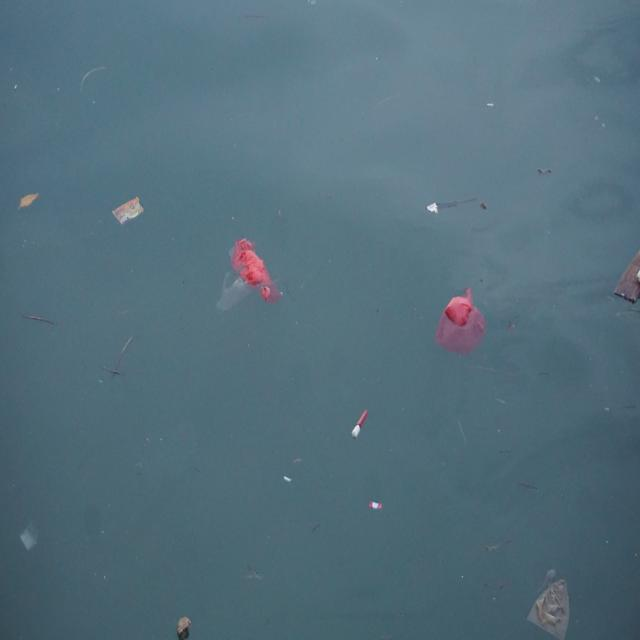Kantong Plastik: (230, 227, 282, 314), (434, 286, 487, 361), (524, 574, 572, 640)
